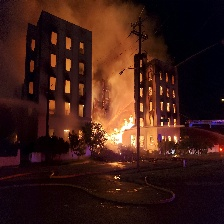fire: (102, 116, 135, 146)
smoke: (77, 4, 137, 113)
